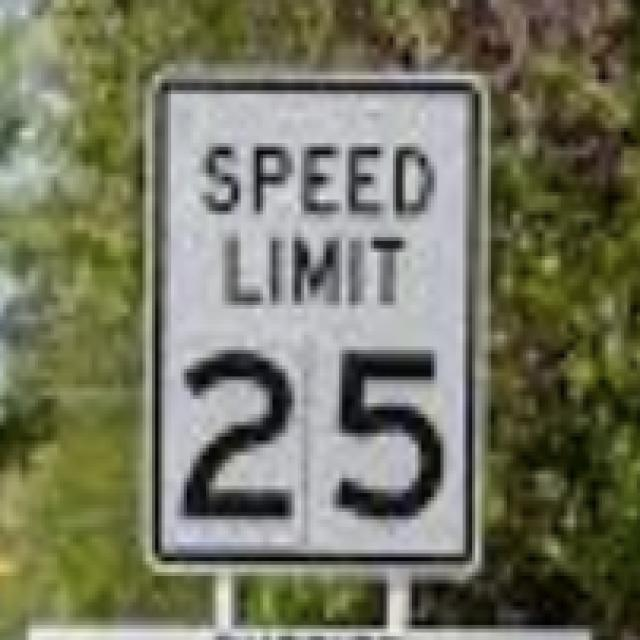speedLimit25: (154, 73, 472, 574)
